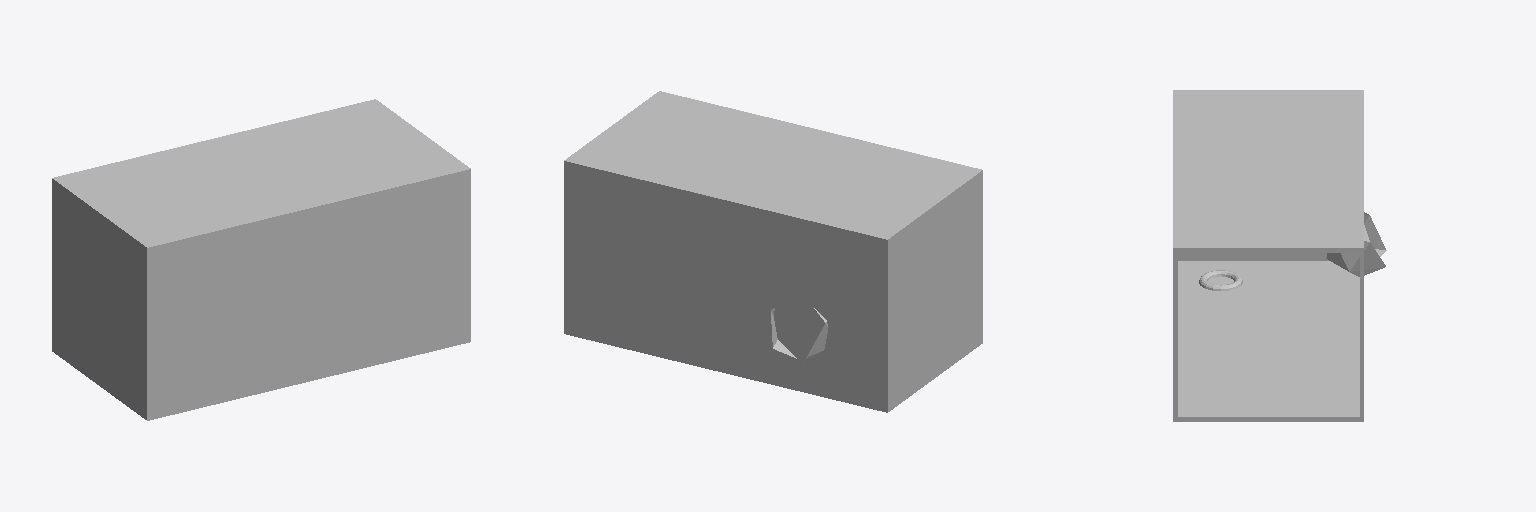
Rendered from room.obj.
3 renders of one model, left to right at view 1: azimuth 30°, elevation 25°; view 2: azimuth 150°, elevation 25°; view 3: azimuth 270°, elevation 25°, orthographic.
Visible parts, largest first — view 1: Cube; view 2: Cube, Icosphere; view 3: Cube, Icosphere, Torus.001.
Part boxes in pixels (x1,y1,x2,y2): Cube: (52, 99, 470, 420); Cube: (564, 91, 982, 412); Icosphere: (771, 308, 827, 360); Cube: (1173, 90, 1363, 421); Icosphere: (1326, 212, 1386, 276); Torus.001: (1199, 270, 1242, 290).
Size of the model in its own units: 3.91 by 2 by 2.23.